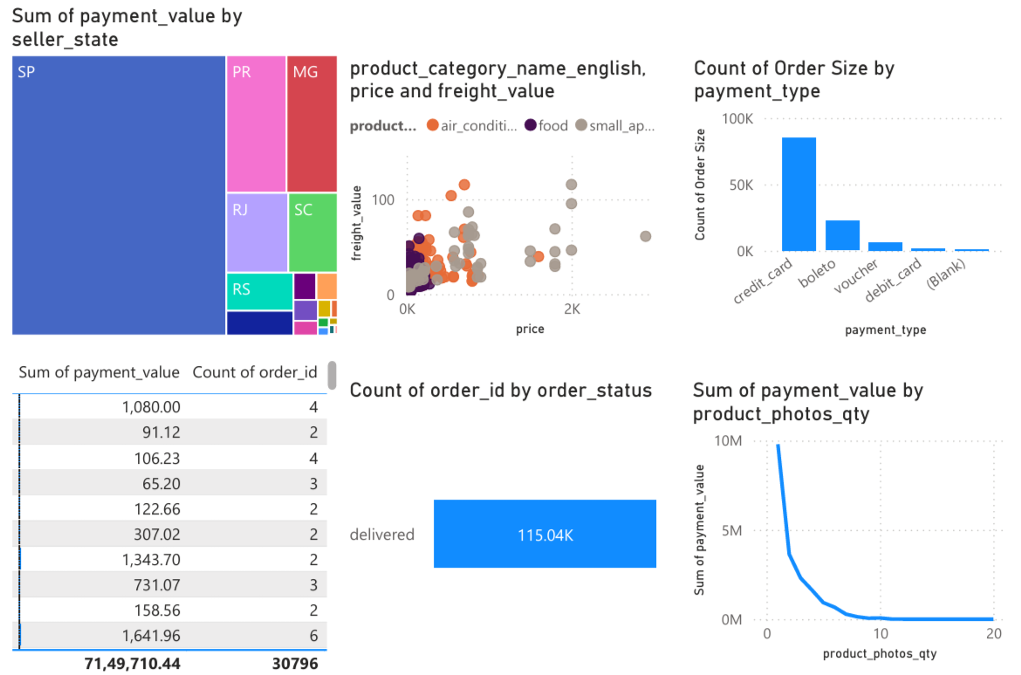

The dashboard page shown, as its layout file describes it:
{"tool":"powerbi","page":{"name":"Page 2","canvas":[1280,720],"ordinal":1},"visuals":[{"type":"treemap","fields":{"Group":["olistdata.seller_state"],"Values":["Sum(olistdata.payment_value)"]},"box":[10,0,280,280],"z":0},{"type":"tableEx","fields":{"Values":["Sum(olistdata.payment_value)","olistdata.order_id","olistdata.customer_id"]},"box":[10,290,280,280],"z":1000},{"type":"scatterChart","fields":{"X":["olistdata.price"],"Y":["olistdata.freight_value"],"Series":["olistdata.product_category_name_english"]},"box":[290,42.5,268.8,237.5],"z":2000},{"type":"columnChart","fields":{"Category":["DateTable.Day of Week Name"],"Y":["CountNonNull(olistdata.order_id)"]},"box":[290,310,268.6,238.6],"z":3000},{"type":"clusteredColumnChart","fields":{"Category":["olistdata.payment_type"],"Y":["CountNonNull(olistdata.Order Size)"]},"box":[574.5,43,269,238],"z":4000},{"type":"lineChart","fields":{"Category":["olistdata.product_photos_qty"],"Y":["Sum(olistdata.payment_value)"]},"box":[574.3,310,268.6,238.6],"z":5000},{"type":"funnel","fields":{"Category":["olistdata.order_status"],"Y":["CountNonNull(olistdata.order_id)"]},"box":[290,310,268.6,238.6],"z":6000}]}

Visuals, with their boxes on the page's 1280x720 design canvas (x1, y1, x2, y2). These are canvas units, not pixel positions in the 1021x675 screenshot, which may show the page scaled, cropped or inside an application window:
treemap - olistdata.seller_state x Sum(olistdata.payment_value): [left=10, top=0, right=290, bottom=280]
tableEx - Sum(olistdata.payment_value) x olistdata.order_id: [left=10, top=290, right=290, bottom=570]
scatterChart - olistdata.price x olistdata.freight_value: [left=290, top=42, right=559, bottom=280]
columnChart - DateTable.Day of Week Name x CountNonNull(olistdata.order_id): [left=290, top=310, right=559, bottom=549]
clusteredColumnChart - olistdata.payment_type x CountNonNull(olistdata.Order Size): [left=574, top=43, right=844, bottom=281]
lineChart - olistdata.product_photos_qty x Sum(olistdata.payment_value): [left=574, top=310, right=843, bottom=549]
funnel - olistdata.order_status x CountNonNull(olistdata.order_id): [left=290, top=310, right=559, bottom=549]
